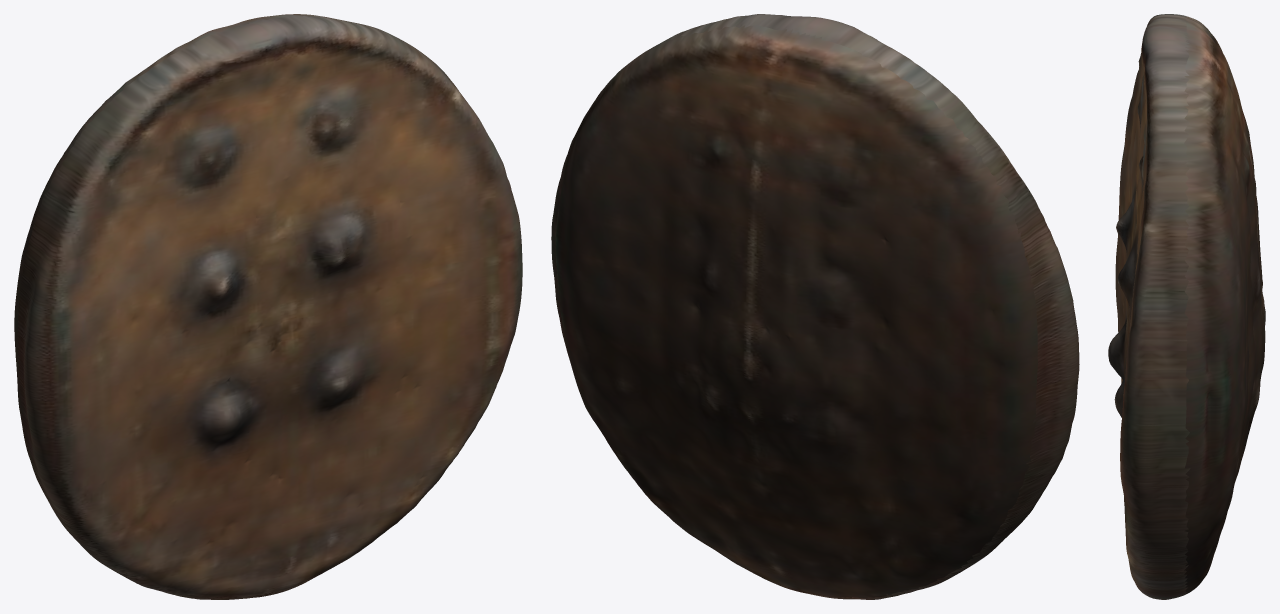
Rendered from kfl-2130.glb.
The picture shows the model from 3 angles, left to right: view 1: azimuth 30°, elevation 25°; view 2: azimuth 150°, elevation 25°; view 3: azimuth 270°, elevation 25°; orthographic projection. The views are drawn at different scales.
Visible parts, largest first — view 1: geometry_0; view 2: geometry_0; view 3: geometry_0.
Part boxes in pixels (x1,y1,x2,y2): geometry_0: [14, 14, 522, 599]; geometry_0: [551, 14, 1079, 599]; geometry_0: [1108, 14, 1265, 599].
Size of the model in its own units: 0.9122 by 0.9939 by 0.2622.
1 material, 1 textured.
